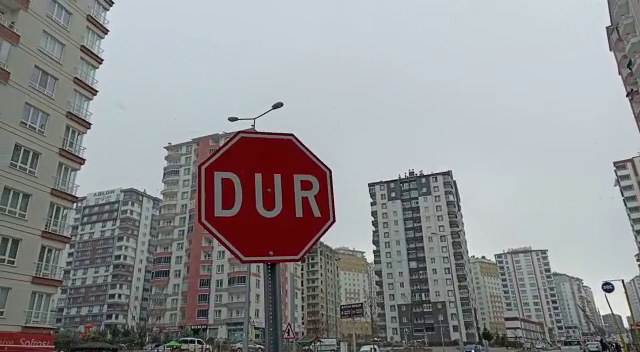stop: (194, 128, 340, 265)
